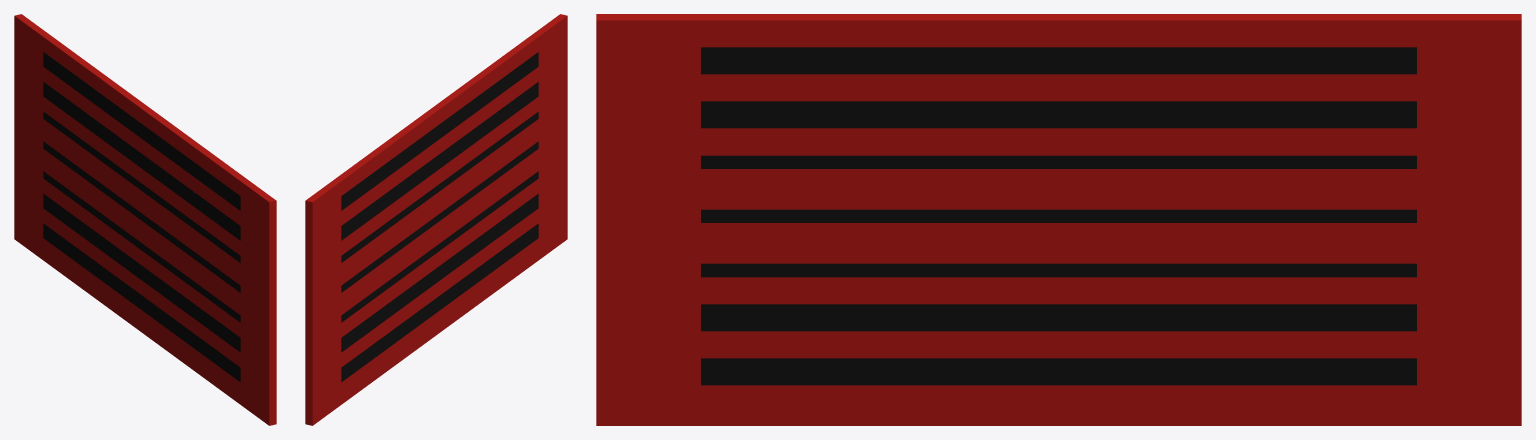
File: double_decker_rear_panel.glb
3 views of the same model, side by side, from view 1: azimuth 30°, elevation 25°; view 2: azimuth 150°, elevation 25°; view 3: azimuth 270°, elevation 25° (orthographic). The views are drawn at different scales.
Visible parts, largest first — view 1: body:compound; view 2: body:compound; view 3: body:compound.
Boxes of the visible parts, x1,y1,x2,y2 form: body:compound: (14, 14, 276, 425); body:compound: (305, 14, 567, 425); body:compound: (596, 14, 1521, 425).
Bounding box in the file's own units: 0.0312 × 0.9375 × 1.94.
